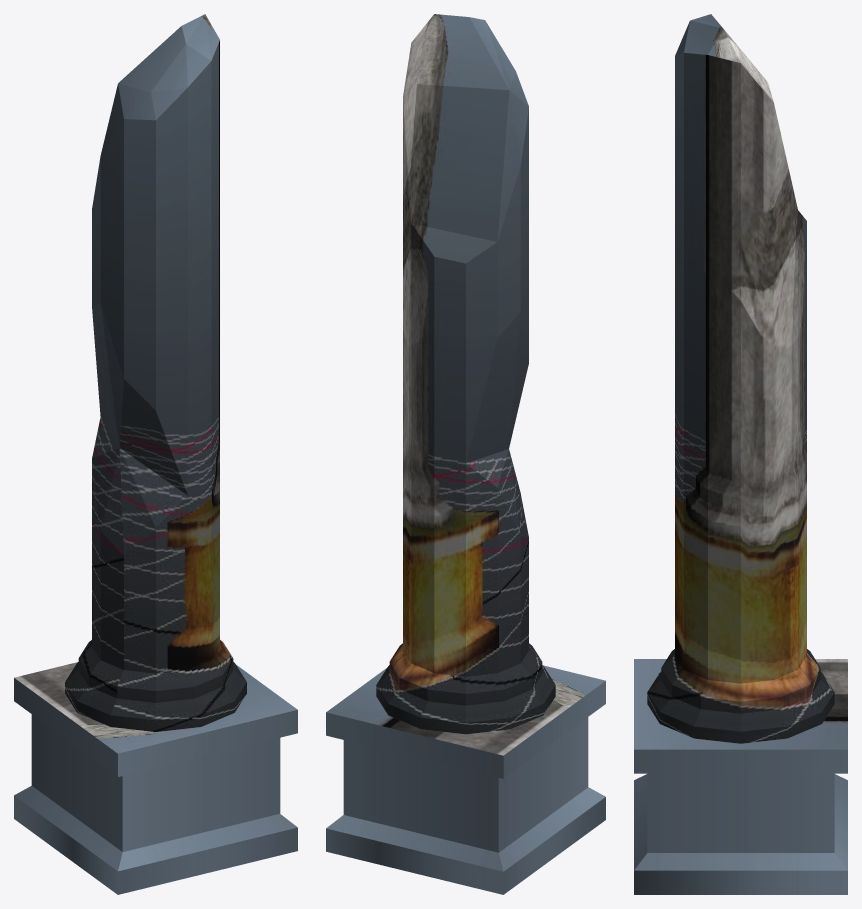
The model's file is broken pillar.obj.
3 renders of one model, left to right at view 1: azimuth 30°, elevation 25°; view 2: azimuth 150°, elevation 25°; view 3: azimuth 270°, elevation 25°, orthographic. The views are drawn at different scales.
Parts seen in each view (by area): view 1: Mesh Mesh; view 2: Mesh Mesh; view 3: Mesh Mesh.
Boxes of the visible parts, bbox=[...] form: Mesh Mesh: bbox=[14, 14, 297, 894]; Mesh Mesh: bbox=[326, 14, 605, 894]; Mesh Mesh: bbox=[634, 14, 847, 894].
Size of the model in its own units: 1.98 by 8.6 by 1.98.
